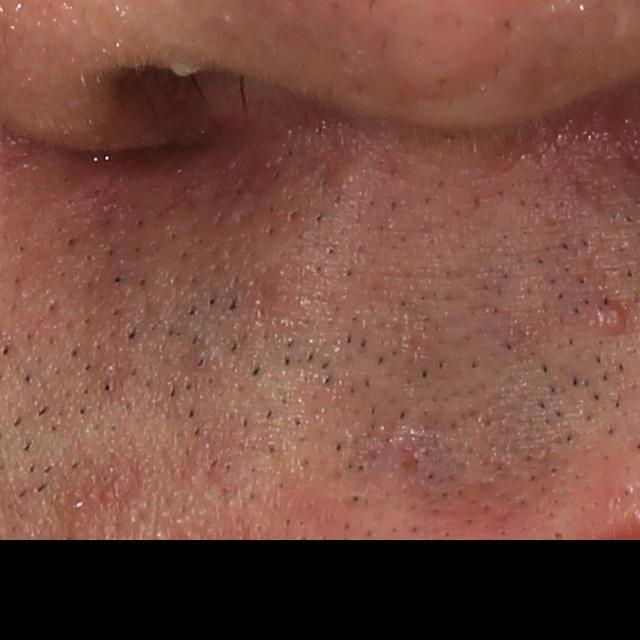papule: (591, 303, 629, 338)
